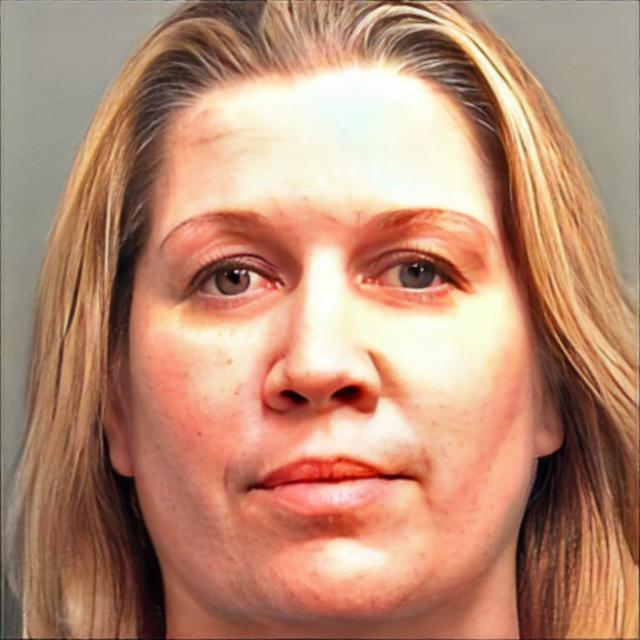content: (121, 69, 538, 618)
